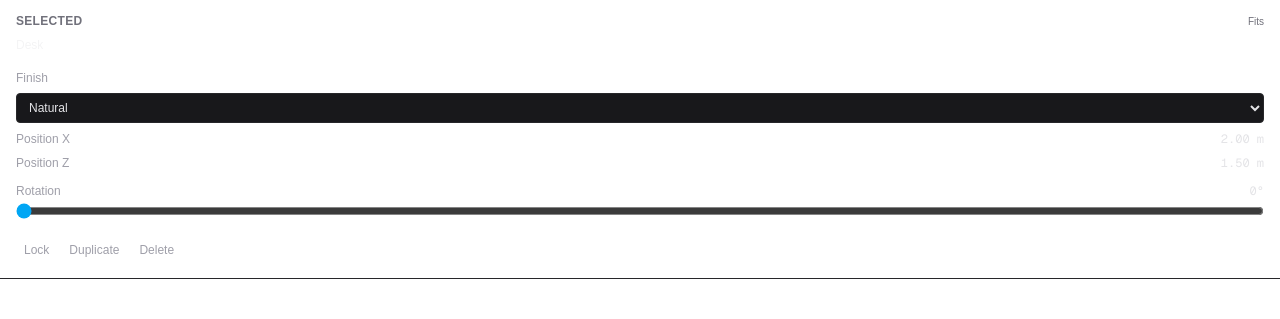
Scenario: SelectionPanel › locks and unlocks the selection
This screenshot has width=1280, height=319.
Click the button "Lock": (37,250) [16, 238, 57, 262]
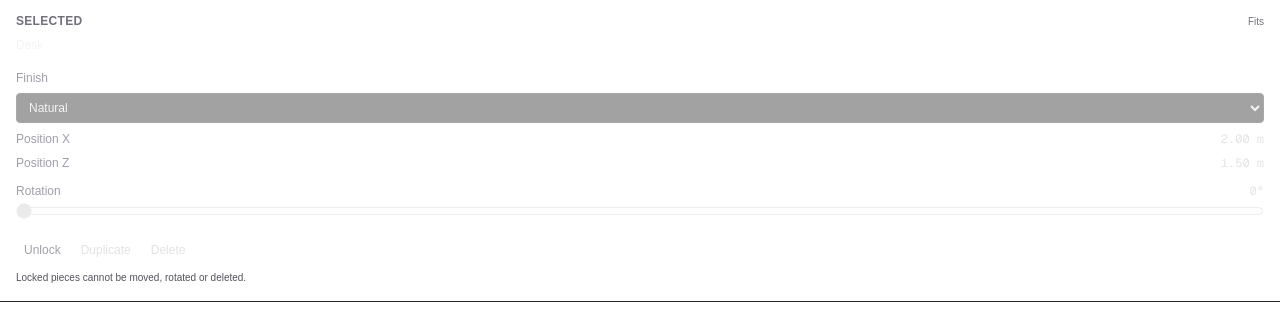
Expected: the button "Unlock" is shown, [16, 238, 69, 262]
